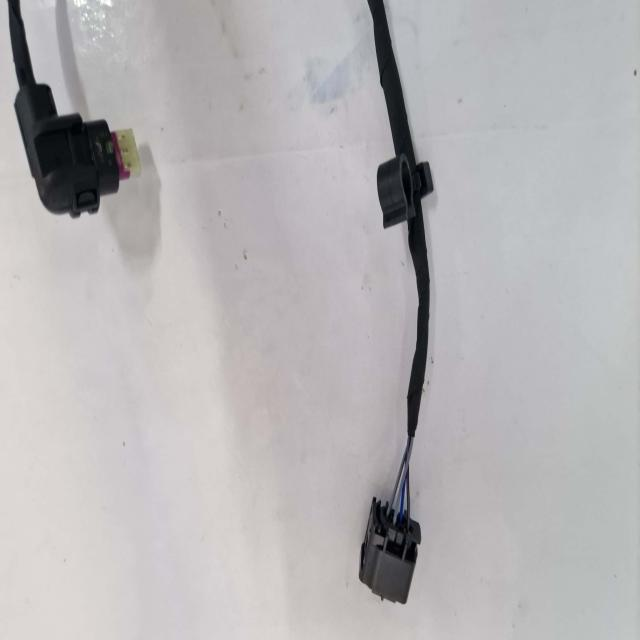Clip: (373, 150, 433, 229)
Connector: (22, 46, 141, 218), (356, 496, 421, 608)
Gape: (390, 419, 422, 521), (386, 426, 416, 523)
MHEV_N11_Cable: (373, 25, 434, 448)
